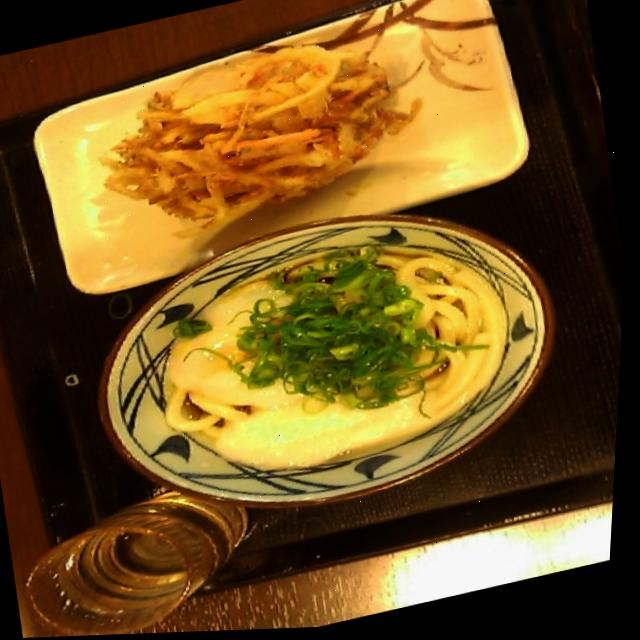蔬菜料理: (81, 0, 447, 276)
面条主食: (49, 175, 588, 572)
